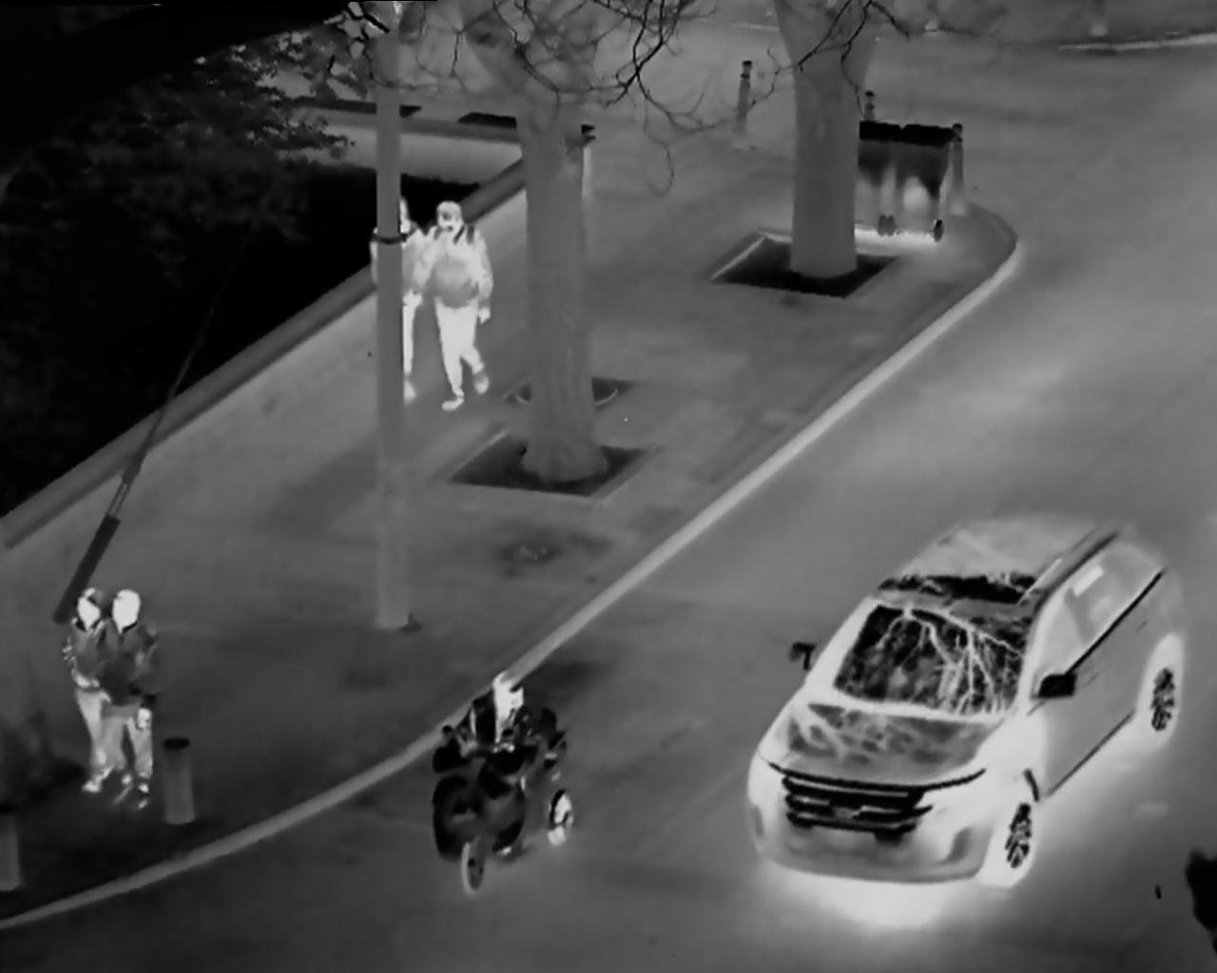person: (446, 651, 559, 861), (425, 190, 495, 414), (102, 581, 168, 815), (370, 188, 428, 384), (67, 578, 114, 793)
